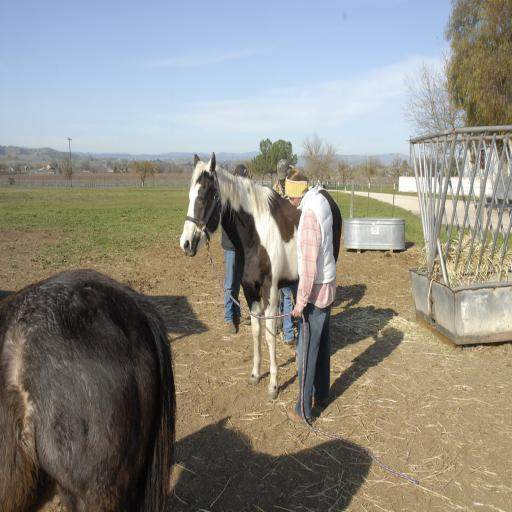horse: (0, 270, 176, 511), (178, 152, 344, 398)
